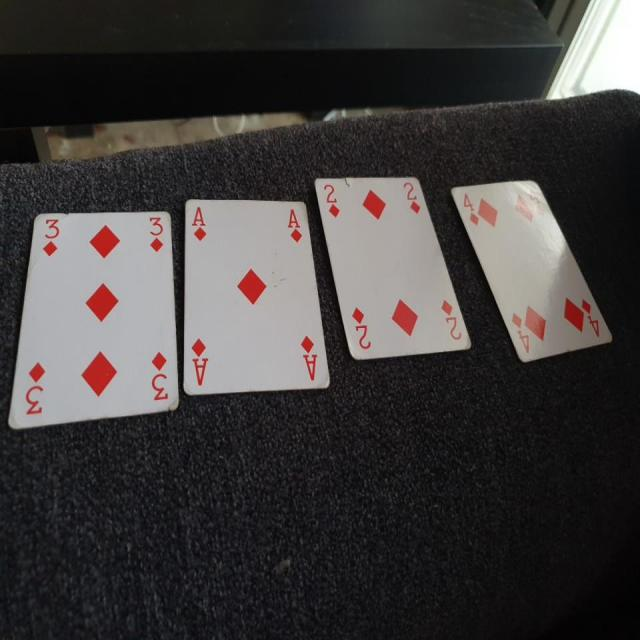2 Diamonds: (313, 158, 476, 366)
3 Diamonds: (8, 204, 181, 433)
4 Diamonds: (449, 175, 621, 365)
A Diamonds: (182, 190, 332, 401)
